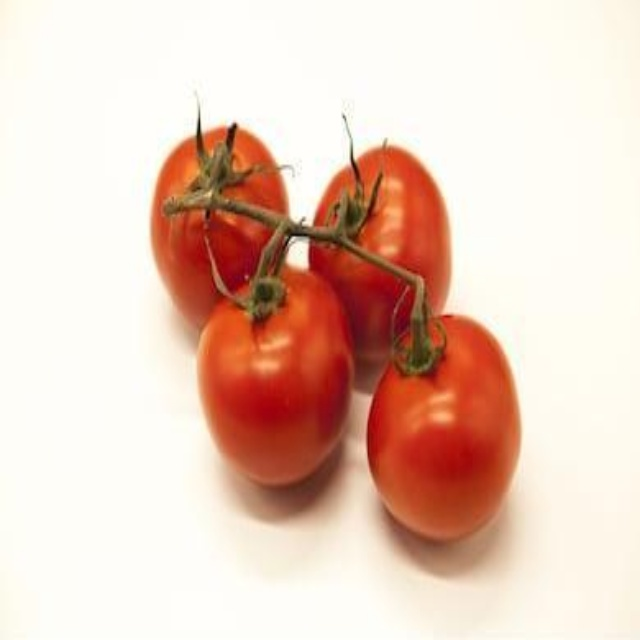tomato: (372, 306, 519, 535), (200, 270, 355, 480), (307, 149, 451, 353), (164, 128, 278, 320)
